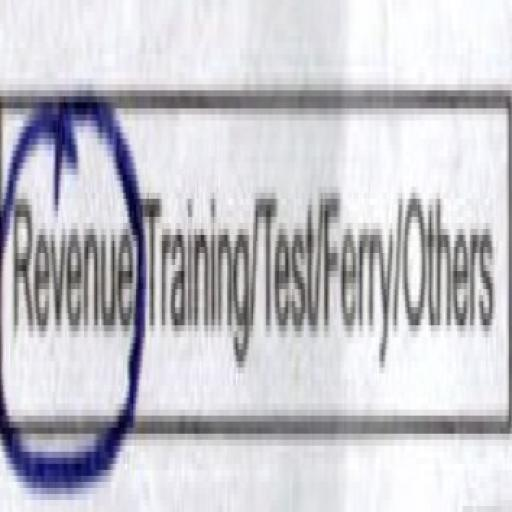check: (0, 30, 139, 512)
